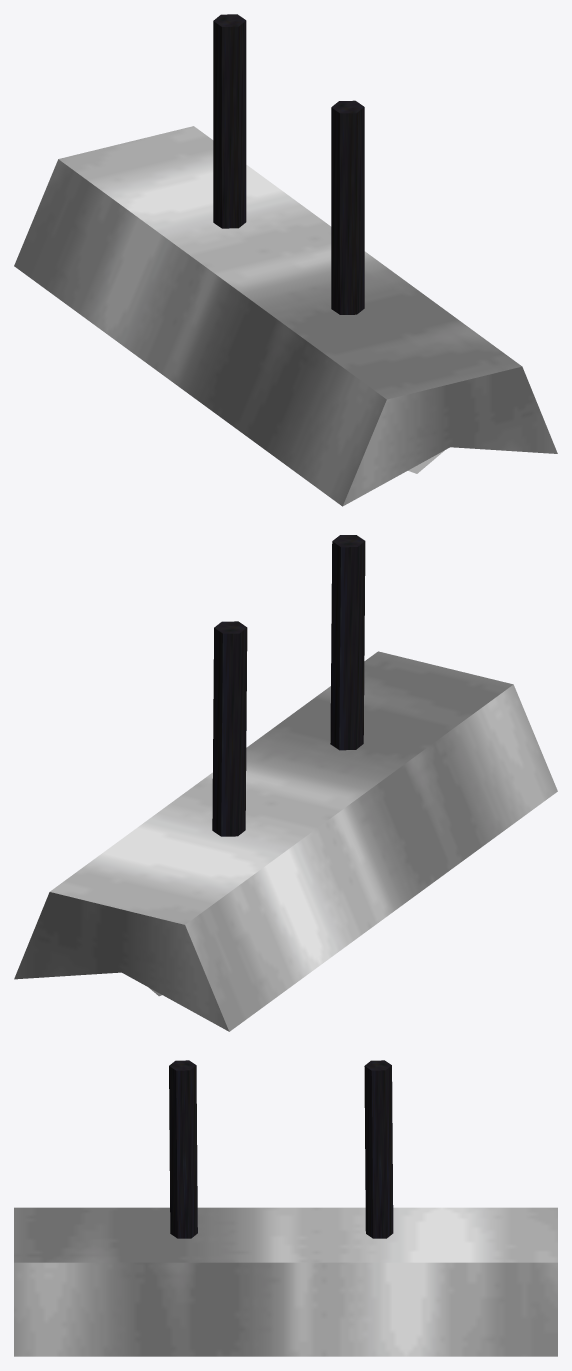
Rendered from luz.fbx.
The picture shows the model from 3 angles, top to bottom: view 1: azimuth 30°, elevation 25°; view 2: azimuth 150°, elevation 25°; view 3: azimuth 270°, elevation 25°; orthographic projection. The views are drawn at different scales.
Parts seen in each view (by area): view 1: Cube.049, Cylinder.050; view 2: Cube.049, Cylinder.050; view 3: Cube.049, Cylinder.050.
Part boxes in pixels (x1=…): Cube.049: x1=14, y1=126, x2=557, y2=506; Cylinder.050: x1=213, y1=14, x2=364, y2=314; Cube.049: x1=14, y1=651, x2=557, y2=1031; Cylinder.050: x1=212, y1=535, x2=365, y2=836; Cube.049: x1=14, y1=1207, x2=557, y2=1356; Cylinder.050: x1=169, y1=1060, x2=393, y2=1238.
Bounding box in the file's own units: 50.15 × 70.49 × 133.
